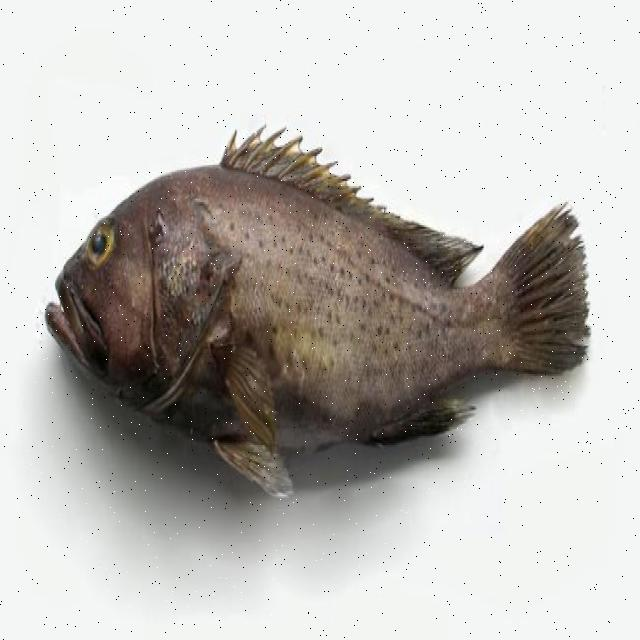ikan: (44, 119, 592, 500)
